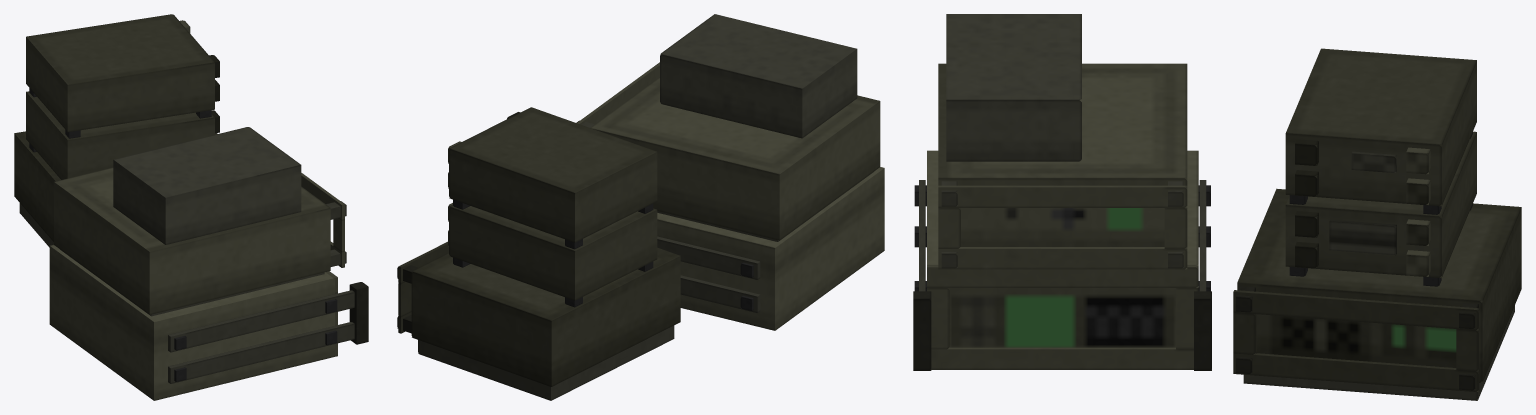
Rendered from military_radio.obj.
3 views of the same model, side by side, from view 1: azimuth 30°, elevation 25°; view 2: azimuth 150°, elevation 25°; view 3: azimuth 270°, elevation 25° (orthographic). The views are drawn at different scales.
Visible parts, largest first — view 1: yourclassnameModel19, yourclassnameModel0, yourclassnameModel47, yourclassnameModel29, yourclassnameModel40, yourclassnameModel7, yourclassnameModel10, yourclassnameModel33, yourclassnameModel8, yourclassnameModel20, yourclassnameModel28, yourclassnameModel23 (+1 smaller); view 2: yourclassnameModel19, yourclassnameModel33, yourclassnameModel47, yourclassnameModel29, yourclassnameModel0, yourclassnameModel40, yourclassnameModel38, yourclassnameModel5, yourclassnameModel9, yourclassnameModel20, yourclassnameModel31, yourclassnameModel39; view 3: yourclassnameModel19, yourclassnameModel33, yourclassnameModel47, yourclassnameModel29, yourclassnameModel0, yourclassnameModel40, yourclassnameModel2, yourclassnameModel20, yourclassnameModel1, yourclassnameModel31, yourclassnameModel21, yourclassnameModel34 (+21 smaller).
Boxes of the visible parts, x1=… form: yourclassnameModel19: x1=54, y1=167, x2=330, y2=314; yourclassnameModel0: x1=49, y1=244, x2=334, y2=400; yourclassnameModel47: x1=26, y1=14, x2=214, y2=132; yourclassnameModel29: x1=113, y1=127, x2=301, y2=244; yourclassnameModel40: x1=26, y1=91, x2=214, y2=179; yourclassnameModel7: x1=168, y1=290, x2=354, y2=352; yourclassnameModel10: x1=168, y1=322, x2=354, y2=383; yourclassnameModel33: x1=14, y1=131, x2=60, y2=241; yourclassnameModel8: x1=349, y1=282, x2=368, y2=344; yourclassnameModel20: x1=301, y1=173, x2=344, y2=220; yourclassnameModel28: x1=60, y1=249, x2=324, y2=316; yourclassnameModel23: x1=333, y1=218, x2=344, y2=252; yourclassnameModel19: x1=591, y1=77, x2=880, y2=240; yourclassnameModel33: x1=411, y1=247, x2=680, y2=386; yourclassnameModel47: x1=449, y1=107, x2=657, y2=242; yourclassnameModel29: x1=660, y1=14, x2=857, y2=138; yourclassnameModel0: x1=657, y1=167, x2=884, y2=330; yourclassnameModel40: x1=449, y1=204, x2=657, y2=300; yourclassnameModel38: x1=418, y1=325, x2=674, y2=400; yourclassnameModel5: x1=657, y1=236, x2=760, y2=279; yourclassnameModel9: x1=680, y1=275, x2=760, y2=312; yourclassnameModel20: x1=577, y1=62, x2=659, y2=124; yourclassnameModel31: x1=398, y1=241, x2=448, y2=283; yourclassnameModel39: x1=398, y1=282, x2=411, y2=316; yourclassnameModel19: x1=938, y1=63, x2=1187, y2=246; yourclassnameModel33: x1=1237, y1=188, x2=1521, y2=383; yourclassnameModel47: x1=1285, y1=48, x2=1476, y2=206; yourclassnameModel29: x1=946, y1=14, x2=1081, y2=161; yourclassnameModel0: x1=927, y1=150, x2=1198, y2=347; yourclassnameModel40: x1=1285, y1=131, x2=1476, y2=278; yourclassnameModel2: x1=931, y1=347, x2=1193, y2=369; yourclassnameModel20: x1=938, y1=185, x2=1187, y2=207; yourclassnameModel1: x1=927, y1=265, x2=1198, y2=287; yourclassnameModel31: x1=1233, y1=290, x2=1479, y2=330; yourclassnameModel21: x1=938, y1=247, x2=1187, y2=269; yourclassnameModel34: x1=1233, y1=353, x2=1479, y2=392.
Bounding box in the file's own units: 1.05 × 0.7656 × 1.68.
Materials: 1 (1 with a texture image).
